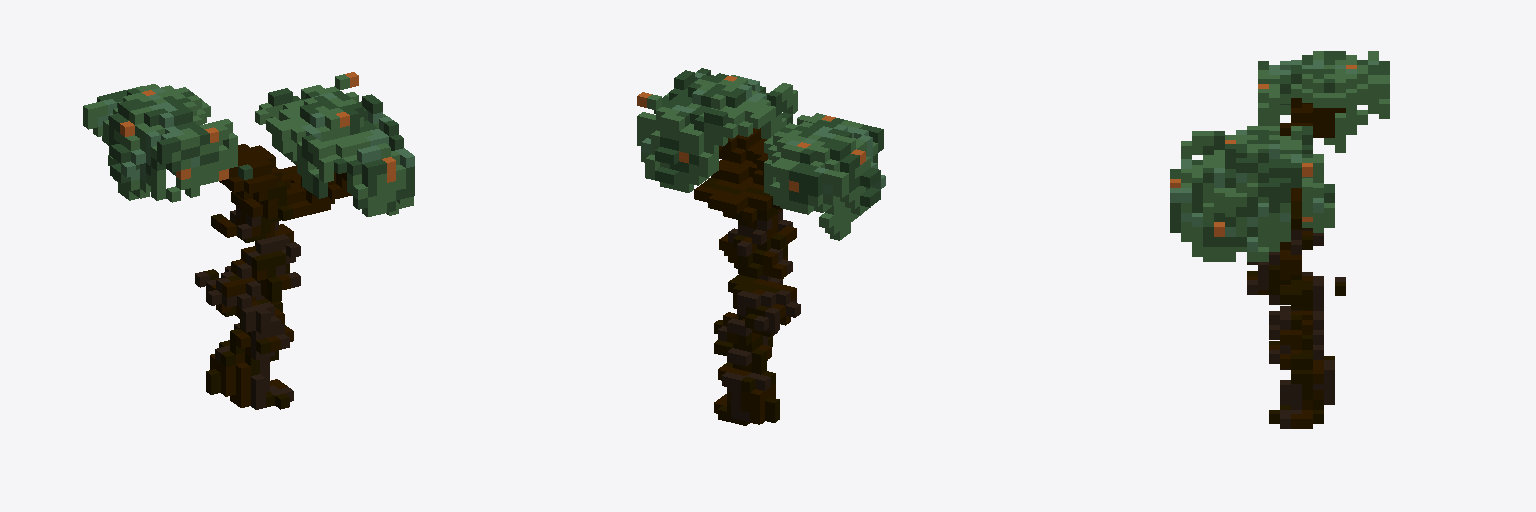
3 views of the same model, side by side, from view 1: azimuth 30°, elevation 25°; view 2: azimuth 150°, elevation 25°; view 3: azimuth 270°, elevation 25° (orthographic).
Parts seen in each view (by area): view 1: object 1; view 2: object 1; view 3: object 1.
Part boxes in pixels (left/top/right/bottom): object 1: left=83, top=72, right=414, bottom=409; object 1: left=637, top=68, right=885, bottom=425; object 1: left=1170, top=51, right=1389, bottom=428.
Size of the model in its own units: 2.6 by 3.1 by 2.
Materials: 1 (1 with a texture image).